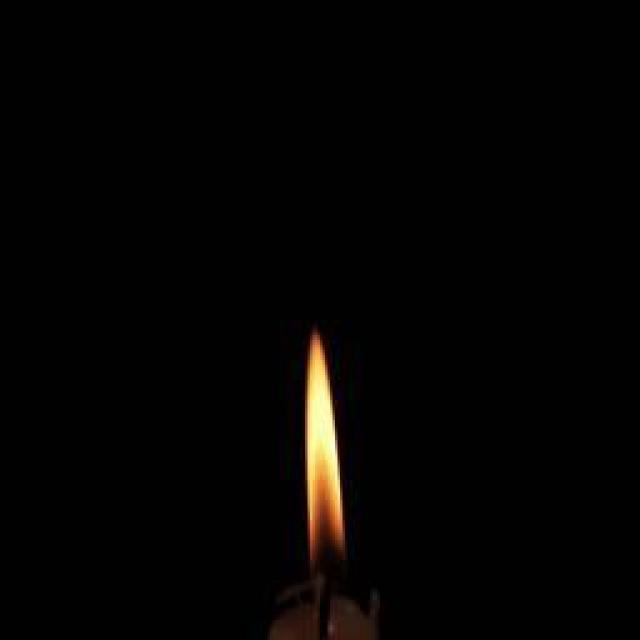Fire: (302, 335, 348, 550)
